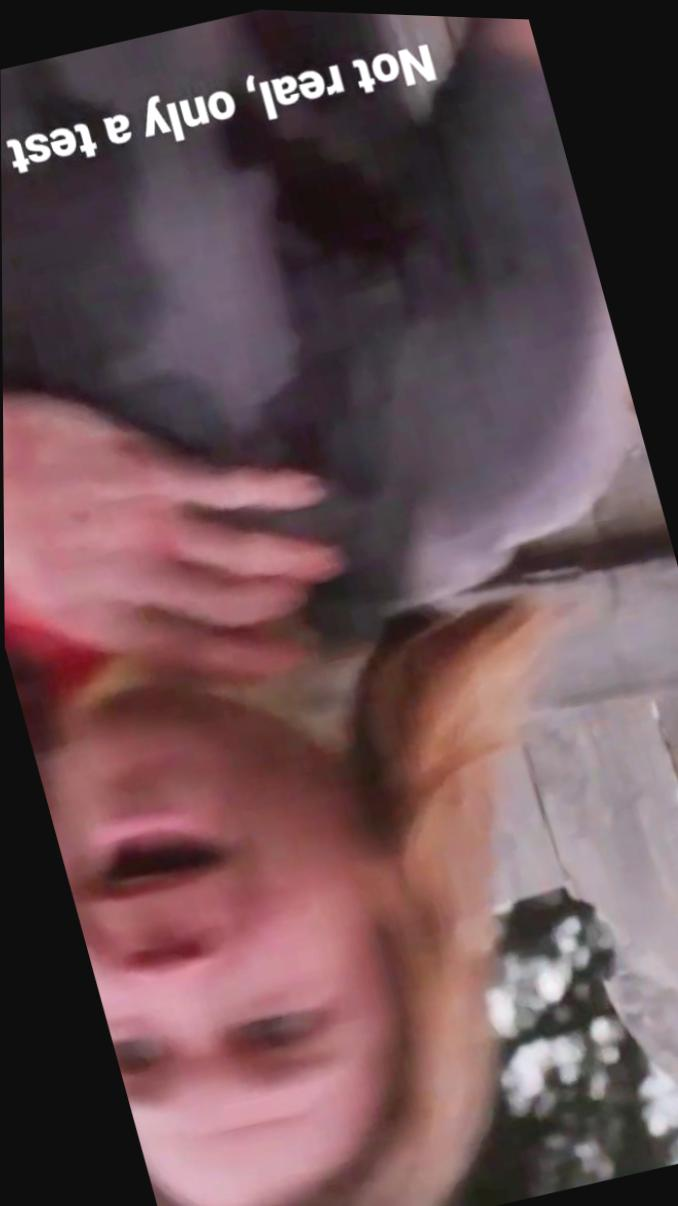Fire: (3, 589, 107, 702)
